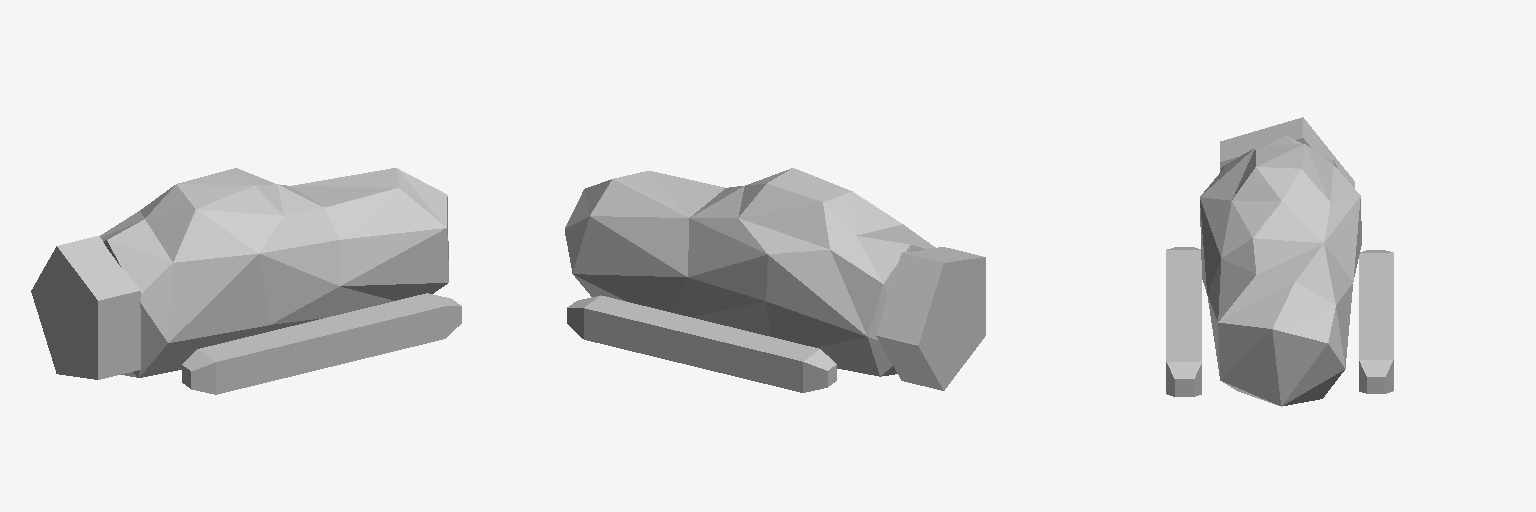
The model's file is subCollider.obj.
The picture shows the model from 3 angles: view 1: azimuth 30°, elevation 25°; view 2: azimuth 150°, elevation 25°; view 3: azimuth 270°, elevation 25°; orthographic projection.
Parts seen in each view (by area): view 1: colliderSub_Cube.006, colliderCube_Cube.008, colliderTorus_Cylinder.001; view 2: colliderSub_Cube.006, colliderCube.001_Cube.007, colliderTorus_Cylinder.001; view 3: colliderSub_Cube.006, colliderCube_Cube.008, colliderCube.001_Cube.007, colliderTorus_Cylinder.001.
Part boxes in pixels (x1,y1,x2,y2): colliderSub_Cube.006: (100,168,448,377); colliderCube_Cube.008: (182,293,461,394); colliderTorus_Cylinder.001: (31,236,140,379); colliderSub_Cube.006: (565,168,935,376); colliderCube.001_Cube.007: (567,295,836,392); colliderTorus_Cylinder.001: (876,247,985,390); colliderSub_Cube.006: (1200,136,1361,406); colliderCube_Cube.008: (1166,247,1201,396); colliderCube.001_Cube.007: (1359,250,1393,393); colliderTorus_Cylinder.001: (1220,117,1354,187).
Bounding box in the file's own units: 9.95 × 4.19 × 5.22.